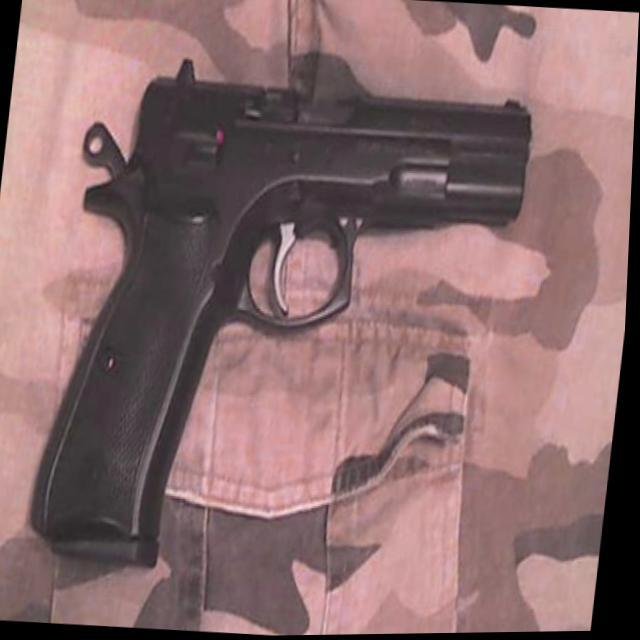weapon: (27, 36, 542, 592)
